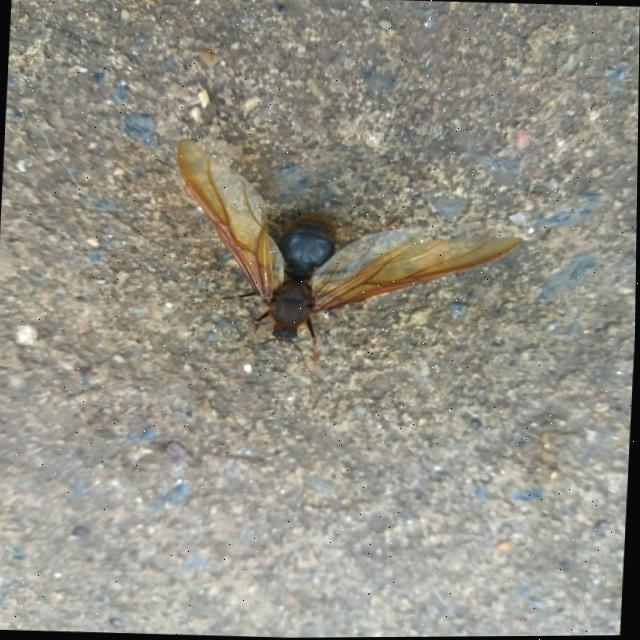Alive-Male-Alate: (166, 134, 527, 385)
